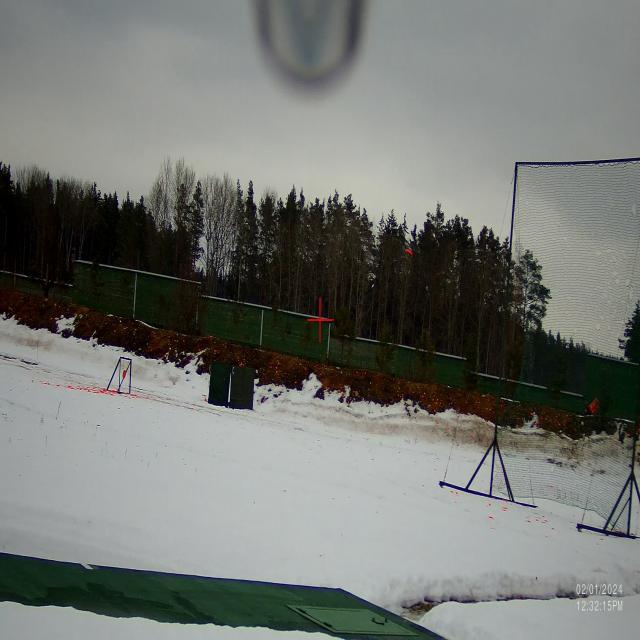entire: (403, 235, 416, 261)
